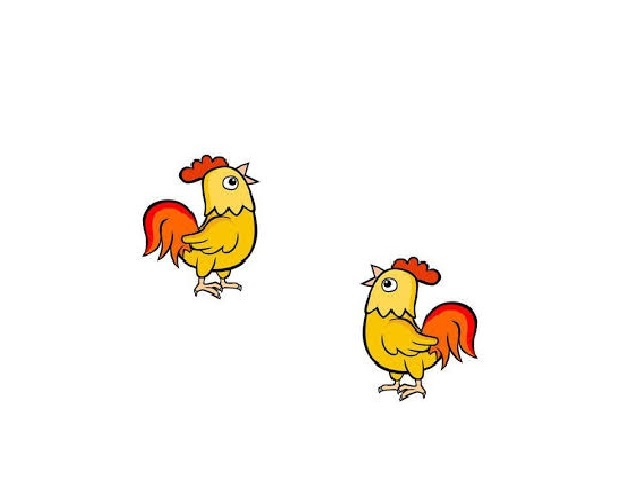crown: (394, 257, 442, 287), (171, 157, 229, 181)
eyes: (383, 276, 400, 294), (224, 174, 240, 190)
feet: (191, 275, 249, 304), (381, 373, 428, 399)
tail: (139, 201, 199, 267), (424, 304, 480, 368)
